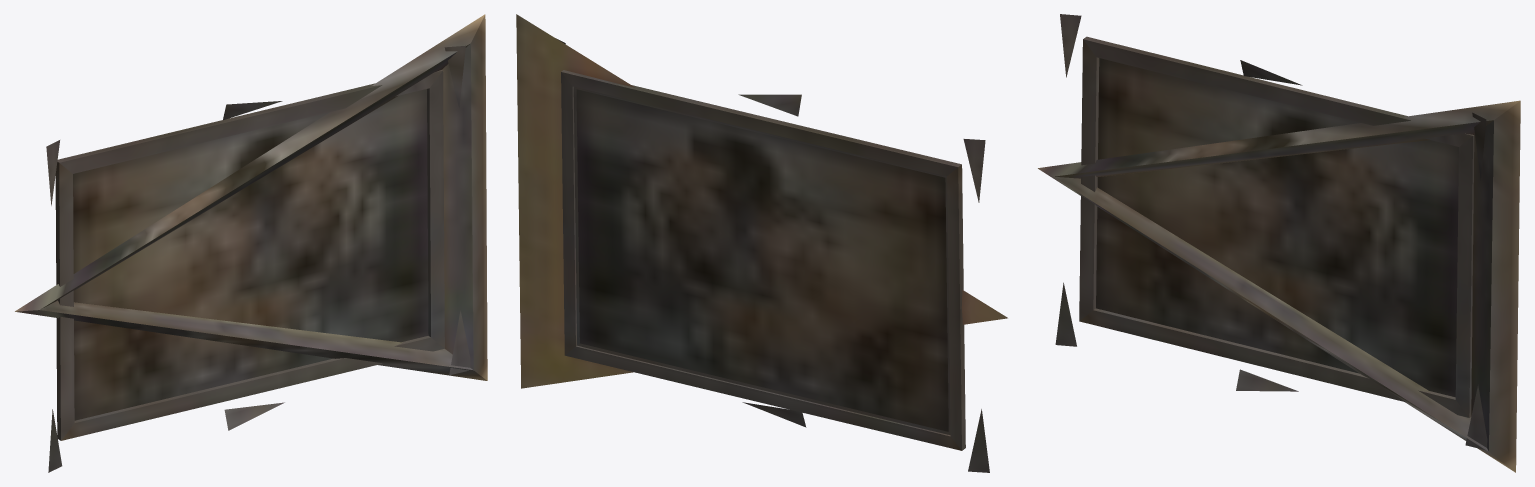
Rendered from painting-hall-1.lod1.glb.
3 renders of one model, left to right at view 1: azimuth 30°, elevation 25°; view 2: azimuth 150°, elevation 25°; view 3: azimuth 330°, elevation 25°, orthographic. The views are drawn at different scales.
Parts seen in each view (by area): view 1: painting-hall-1; view 2: painting-hall-1; view 3: painting-hall-1.
Part boxes in pixels (<box>): painting-hall-1: <box>15,14,487,472</box>; painting-hall-1: <box>516,14,1007,472</box>; painting-hall-1: <box>1038,14,1520,472</box>.
Size of the model in its own units: 1.05 by 0.7723 by 0.0502.
Materials: 1 (1 with a texture image).
